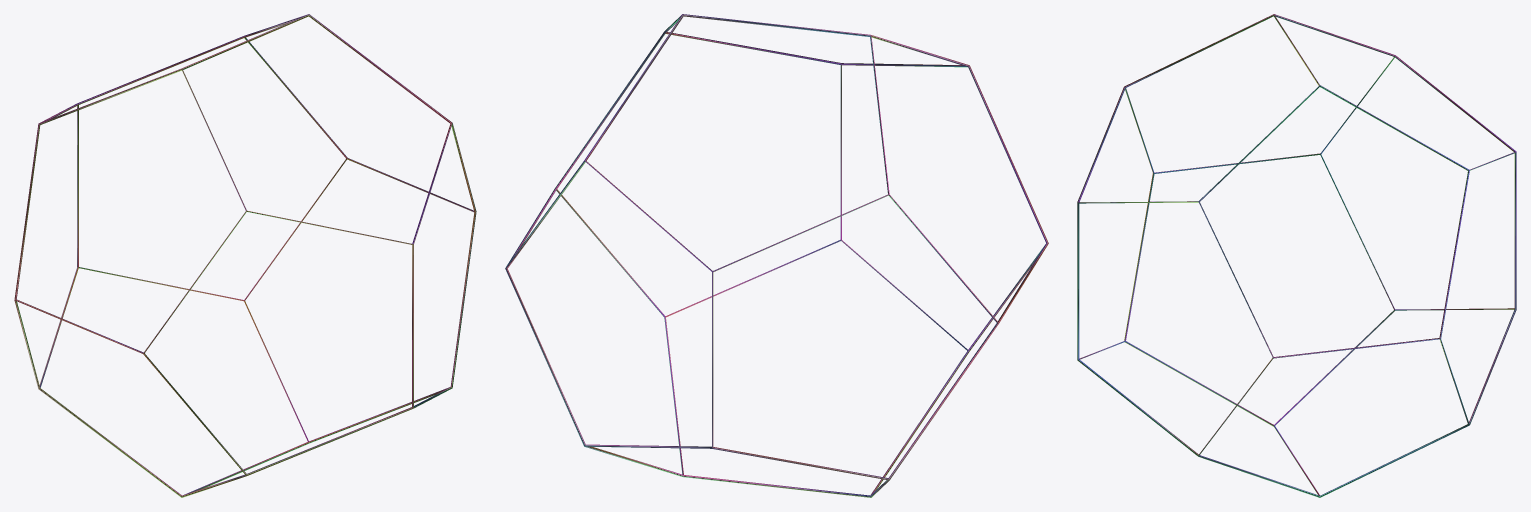
File: zeometry-wireframes-wire-dodecahedron_v6.glb
3 renders of one model, left to right at view 1: azimuth 30°, elevation 25°; view 2: azimuth 150°, elevation 25°; view 3: azimuth 270°, elevation 25°, orthographic. The views are drawn at different scales.
Parts seen in each view (by area): view 1: Wire Dodecahedron_v6; view 2: Wire Dodecahedron_v6; view 3: Wire Dodecahedron_v6.
Part boxes in pixels (x1,y1,x2,y2): Wire Dodecahedron_v6: [14, 14, 476, 497]; Wire Dodecahedron_v6: [505, 14, 1048, 497]; Wire Dodecahedron_v6: [1077, 14, 1516, 497].
Size of the model in its own units: 0.5 by 0.4693 by 0.4527.
